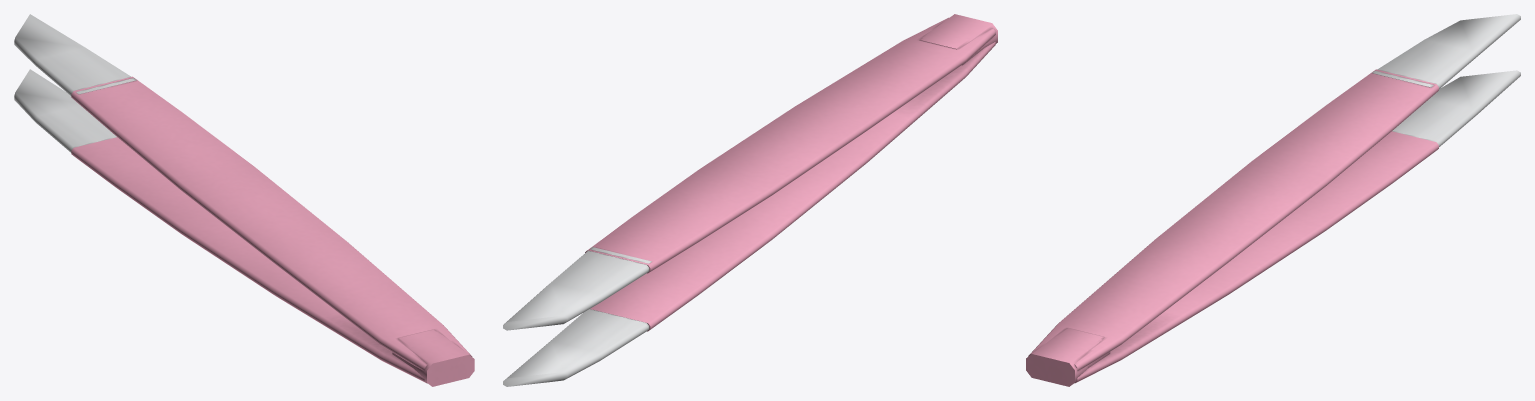
File: eyebrow_tweezers.glb
3 renders of one model, left to right at view 1: azimuth 30°, elevation 25°; view 2: azimuth 150°, elevation 25°; view 3: azimuth 330°, elevation 25°, orthographic. The views are drawn at different scales.
Visible parts, largest first — view 1: d1_eyebrow_tweezers; view 2: d1_eyebrow_tweezers; view 3: d1_eyebrow_tweezers.
Part boxes in pixels (bbox=[...]): d1_eyebrow_tweezers: bbox=[14, 14, 474, 386]; d1_eyebrow_tweezers: bbox=[503, 14, 997, 386]; d1_eyebrow_tweezers: bbox=[1026, 14, 1520, 386].
Size of the model in its own units: 0.0095 by 0.0078 by 0.0955.
Materials: 1 (1 with a texture image).
